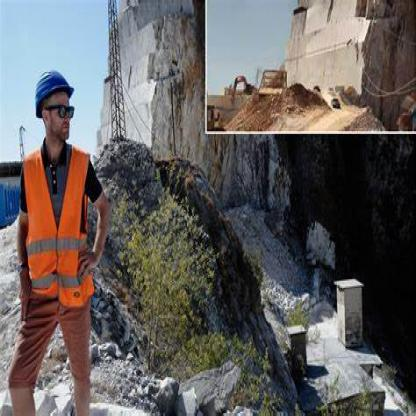person: (7, 61, 113, 414)
